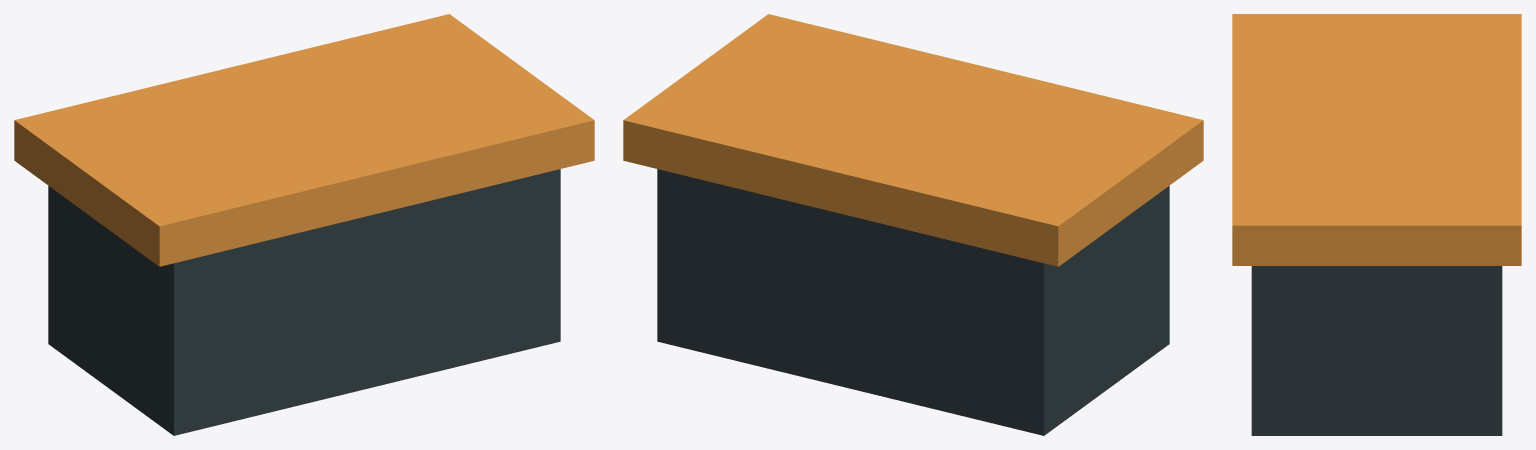
Rendered from hand_tool_set.glb.
3 renders of one model, left to right at view 1: azimuth 30°, elevation 25°; view 2: azimuth 150°, elevation 25°; view 3: azimuth 270°, elevation 25°, orthographic.
Visible parts, largest first — view 1: hand_tool_set, hand_tool_set top; view 2: hand_tool_set, hand_tool_set top; view 3: hand_tool_set top, hand_tool_set.
Part boxes in pixels (x1,y1,x2,y2): hand_tool_set: [48, 169, 560, 435]; hand_tool_set top: [14, 14, 594, 266]; hand_tool_set: [657, 169, 1169, 435]; hand_tool_set top: [623, 14, 1203, 266]; hand_tool_set top: [1232, 14, 1521, 265]; hand_tool_set: [1251, 266, 1502, 435].
Size of the model in its own units: 1.8 by 0.88 by 1.04.
